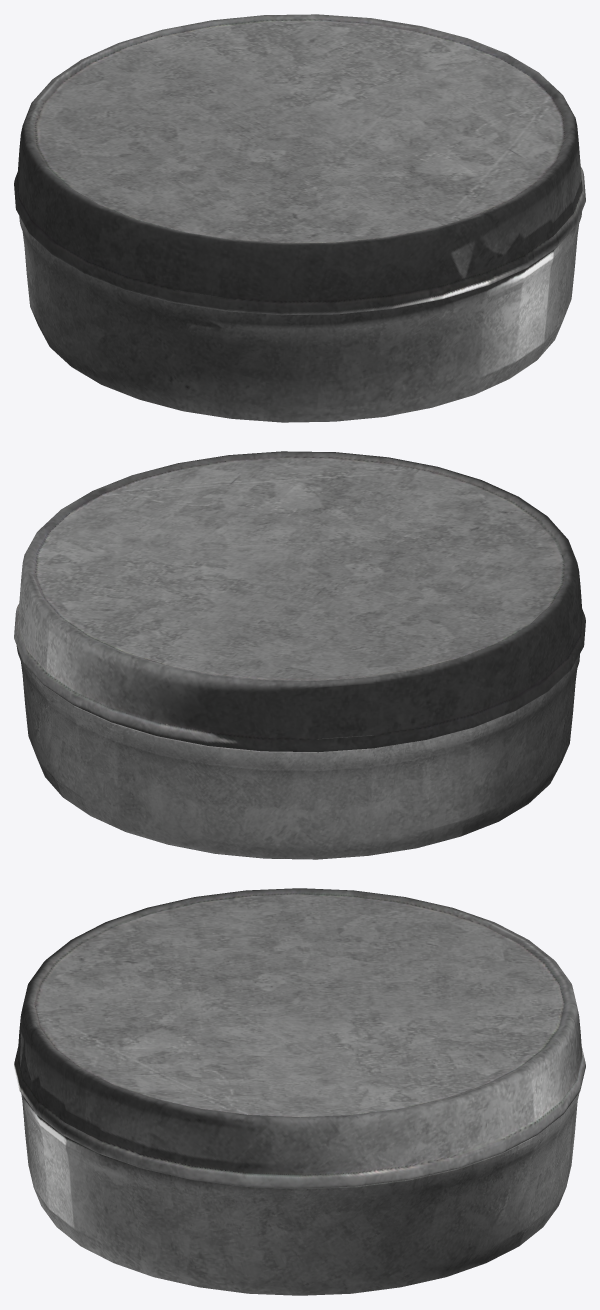
Rendered from Container_MetalPolish1.glb.
The picture shows the model from 3 angles, top to bottom: view 1: azimuth 30°, elevation 25°; view 2: azimuth 150°, elevation 25°; view 3: azimuth 270°, elevation 25°; orthographic projection.
Visible parts, largest first — view 1: Container_MetalPolishLid, Contaier_MetalPolishBase; view 2: Container_MetalPolishLid, Contaier_MetalPolishBase; view 3: Container_MetalPolishLid, Contaier_MetalPolishBase.
Boxes of the visible parts, x1=… form: Container_MetalPolishLid: x1=14, y1=14, x2=585, y2=315; Contaier_MetalPolishBase: x1=19, y1=212, x2=581, y2=422; Container_MetalPolishLid: x1=14, y1=451, x2=585, y2=752; Contaier_MetalPolishBase: x1=16, y1=646, x2=579, y2=859; Container_MetalPolishLid: x1=14, y1=888, x2=585, y2=1188; Contaier_MetalPolishBase: x1=21, y1=1092, x2=579, y2=1295.
Size of the model in its own units: 2 by 0.7433 by 2.
Materials: 3 (3 with a texture image).
